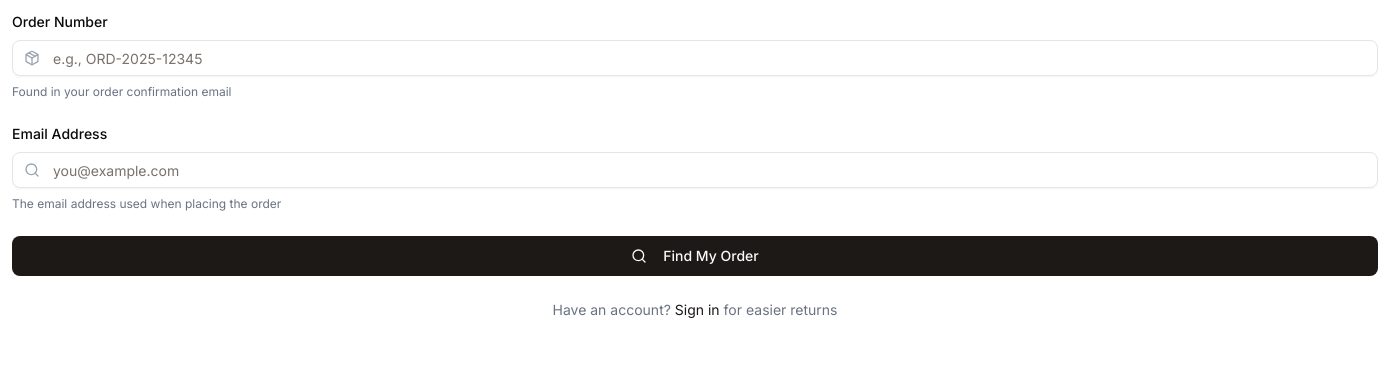
Test: GuestReturnForm › shows validation error for empty order number
Click the button "Find My Order" at (695, 256), box top-left (12, 236), bottom-right (1378, 276)
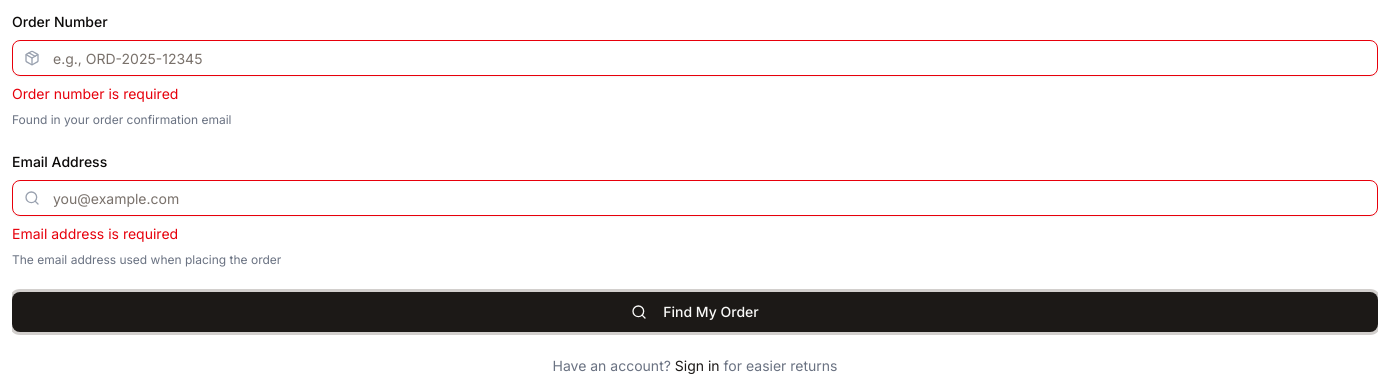
Result: the text "Order number is required" is shown at top-left (12, 85), bottom-right (178, 102)
